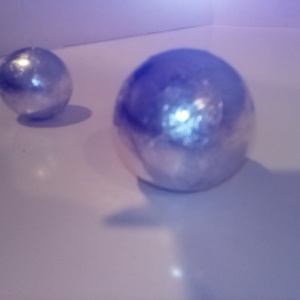alive_ball: (114, 48, 256, 191), (1, 47, 72, 121)
